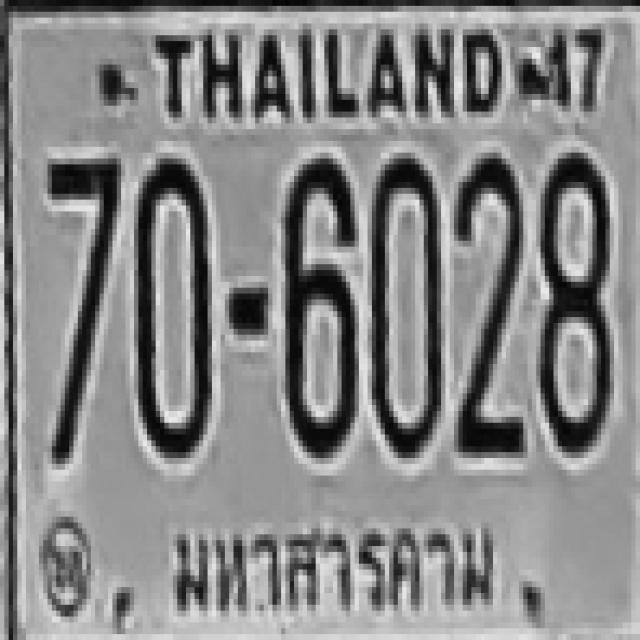0: (134, 156, 208, 455), (368, 153, 437, 452)
2: (452, 150, 521, 420)
6: (281, 156, 355, 455)
7: (45, 153, 119, 411), (43, 153, 117, 364), (43, 153, 117, 334)
8: (536, 147, 610, 446)
MahaSarakham: (153, 512, 502, 625)
